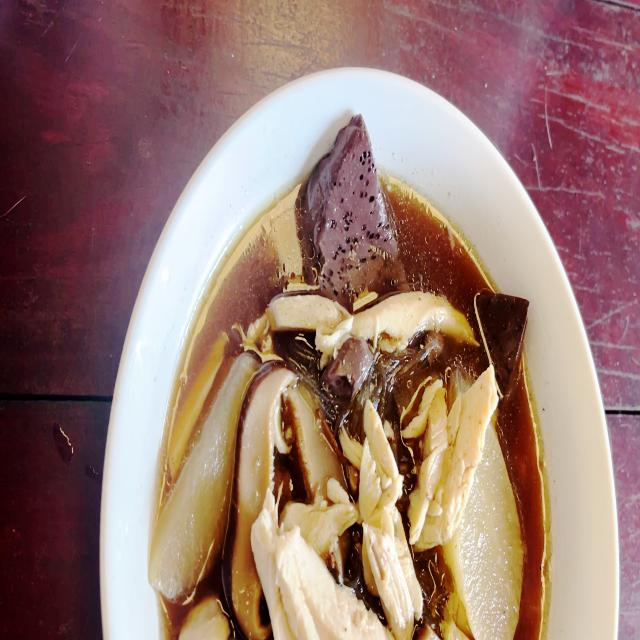boiled_chicken_blood_jelly: (304, 116, 400, 292), (477, 290, 530, 382), (327, 333, 371, 397)
chicken_shredded: (250, 519, 374, 640), (352, 411, 418, 637), (416, 373, 500, 540), (266, 292, 466, 338)
daikon_radish: (150, 357, 242, 598), (470, 468, 522, 633)
noodle: (160, 190, 552, 640)
